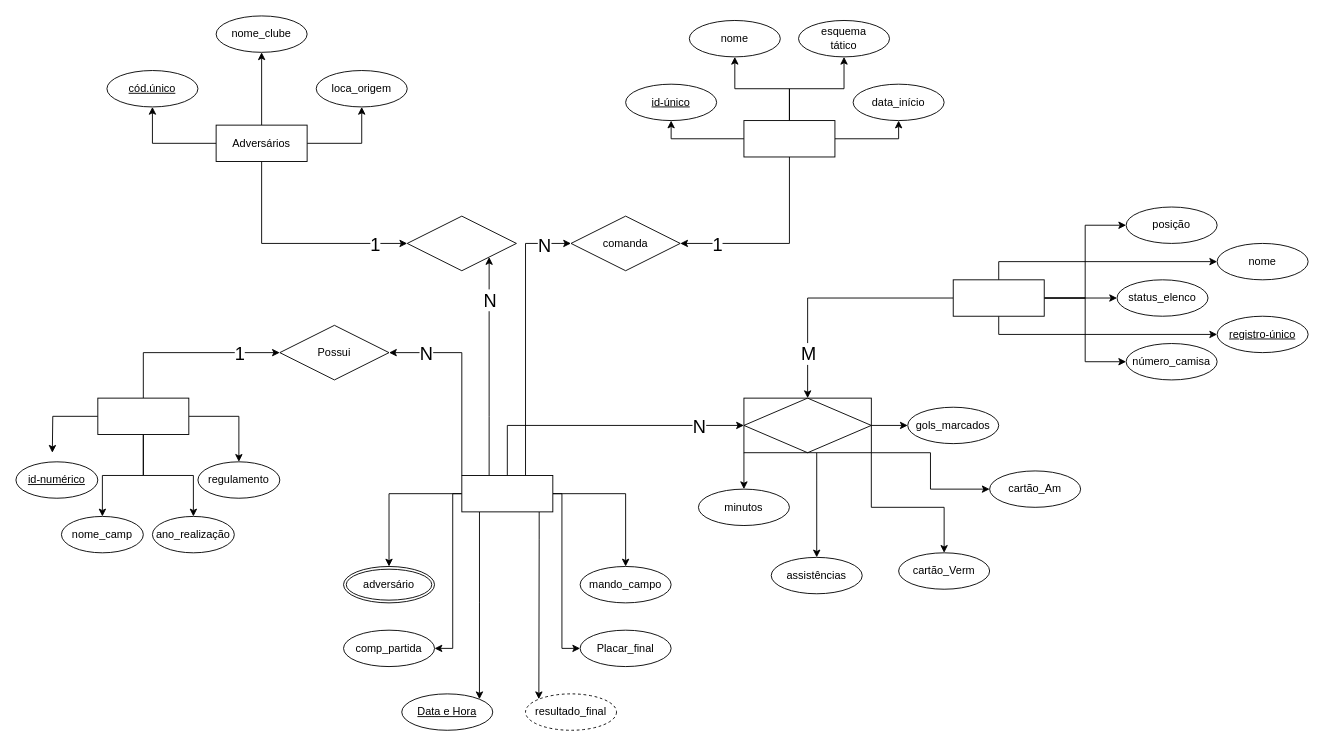
The diagram is 1324 pixels wide and 746 high, and some of its shapes have lost their labels. Here are the shapes that lost their labels. From the top down, the centre of each, then its label:
At pixel 789 138: "Técnico".
At pixel 461 243: "enfrenta".
At pixel 998 297: "Atletas".
At pixel 143 416: "Competição".
At pixel 807 425: "Participação".
At pixel 507 493: "Partidas".
